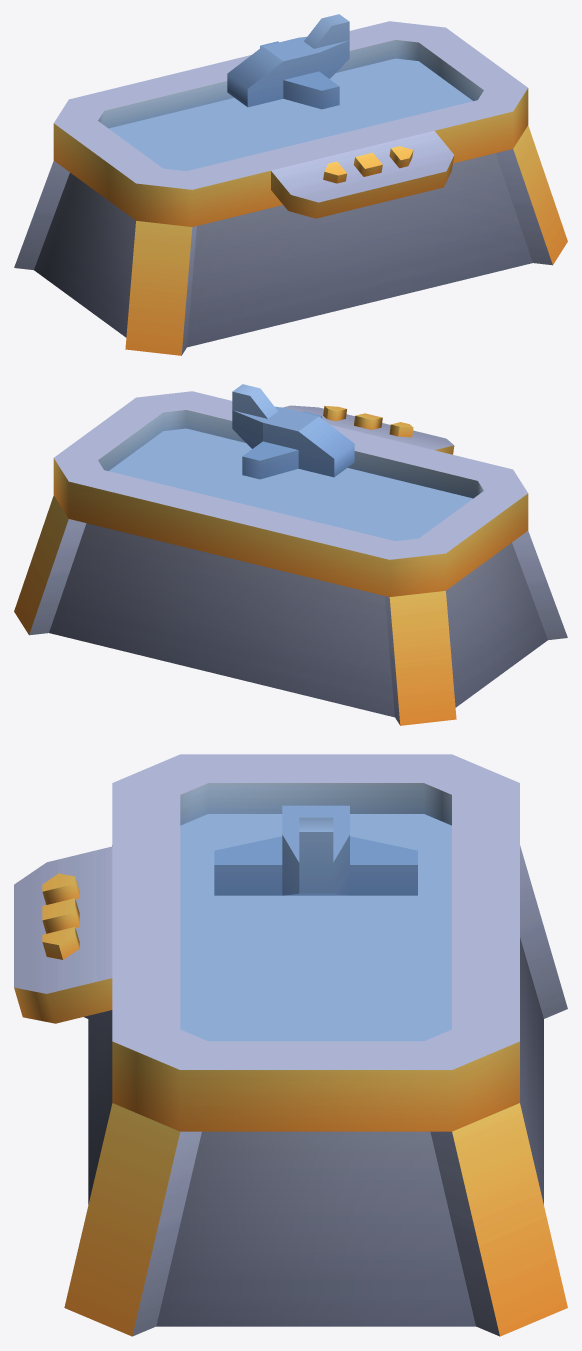
The model's file is station.table_display.glb.
3 views of the same model, one above another, from view 1: azimuth 30°, elevation 25°; view 2: azimuth 150°, elevation 25°; view 3: azimuth 270°, elevation 25° (orthographic). The views are drawn at different scales.
Parts seen in each view (by area): view 1: table-display, ship; view 2: table-display, ship; view 3: table-display, ship.
Part boxes in pixels (x1,y1,x2,y2): table-display: [14, 21, 567, 355]; ship: [227, 14, 349, 109]; table-display: [14, 391, 567, 725]; ship: [232, 384, 354, 479]; table-display: [14, 754, 567, 1336]; ship: [214, 805, 417, 895].
Size of the model in its own units: 2.14 by 1.04 by 1.41.
Materials: 1 (1 with a texture image).
